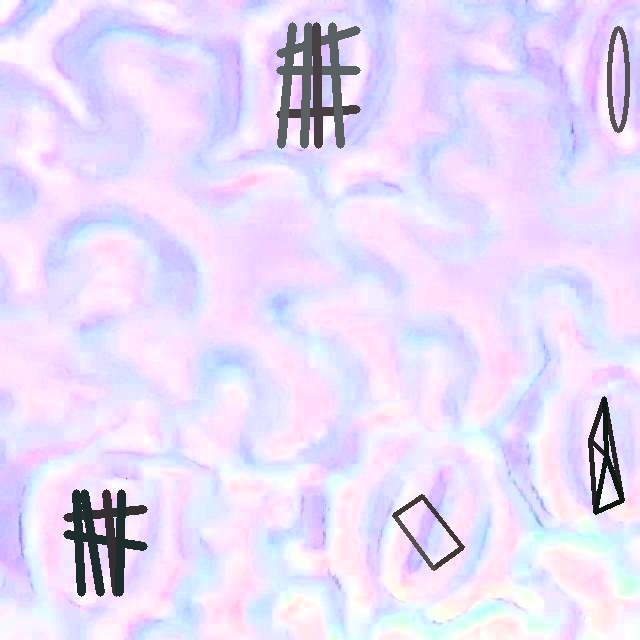close: (63, 489, 147, 596)
open: (276, 22, 360, 148), (393, 494, 463, 569), (588, 396, 624, 514), (606, 26, 629, 132)
